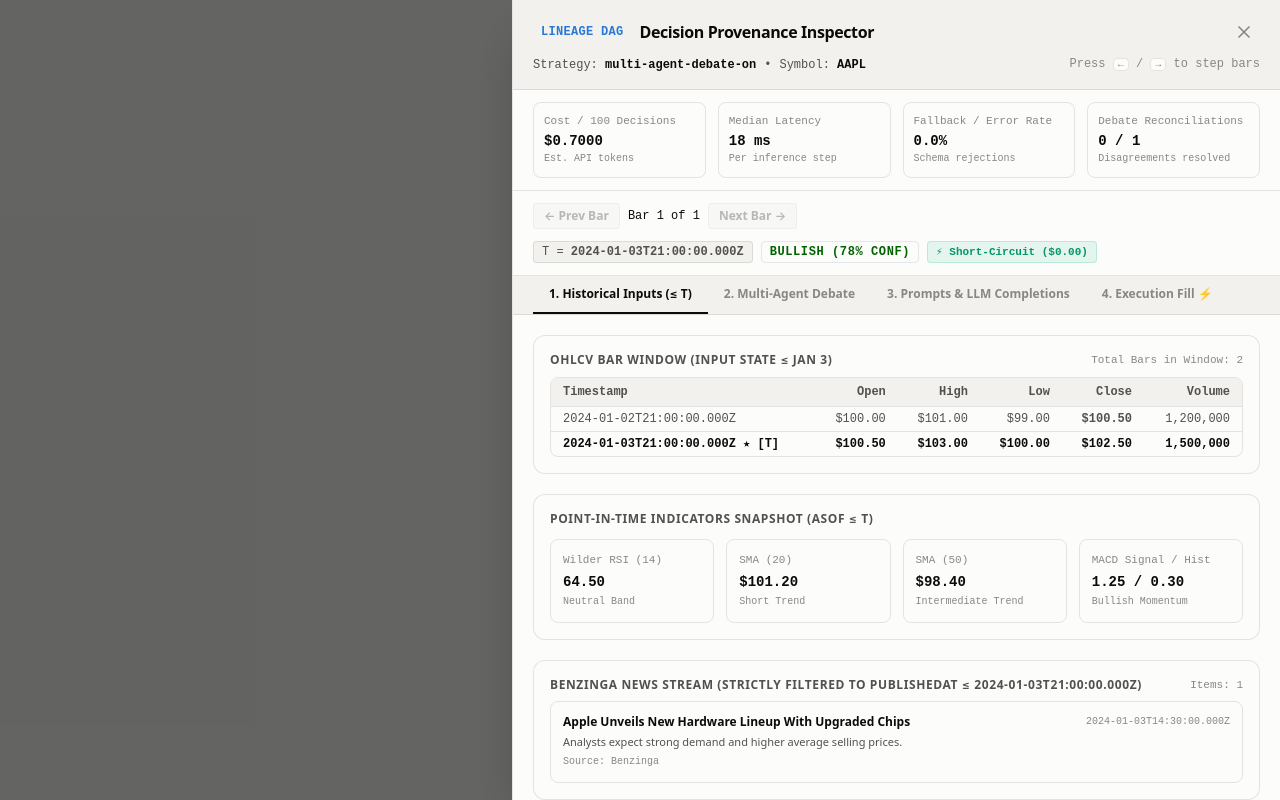
Test: Decision Lineage DAG Inspector & Telemetry HUD › renders a neutral badge when no model completions were recorded
The width and height of the screenshot is (1280, 800).
Click the button "3. Prompts & LLM Completions": point(978, 295) [871,276,1086,314]
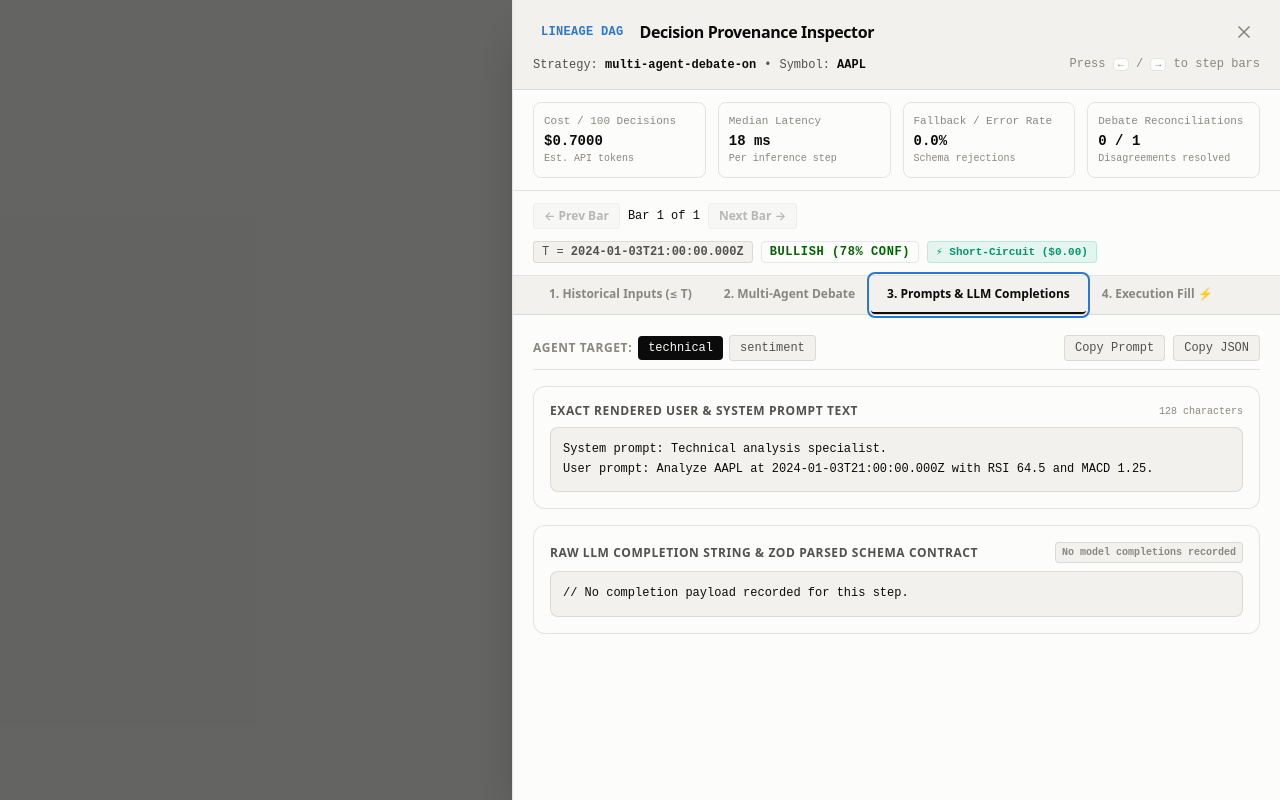
Expected: the text "No model completions recorded" is shown, [1055,542,1243,563]
Expected: the text "// No completion payload recorded for this step." is shown, [550,571,1243,616]
